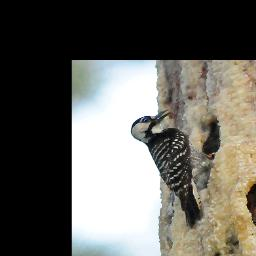Woodpecker: (129, 109, 214, 229)
